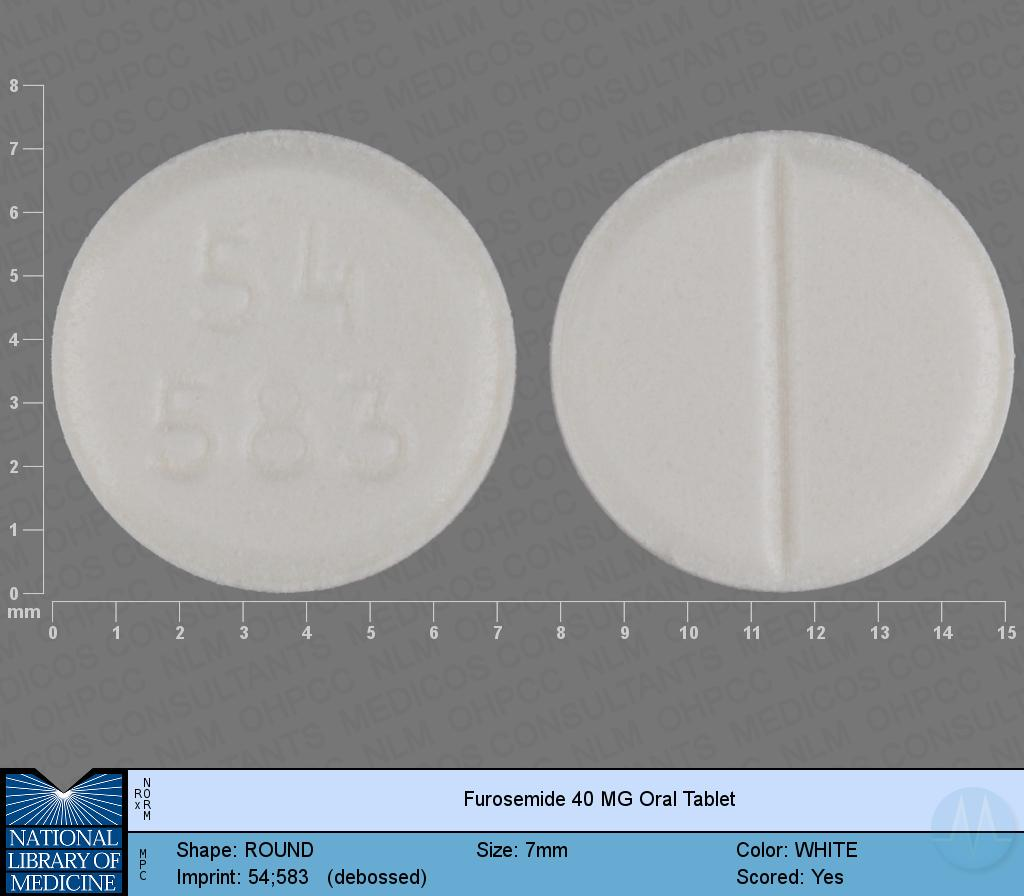Pill: (538, 115, 1024, 600), (45, 118, 528, 598)
